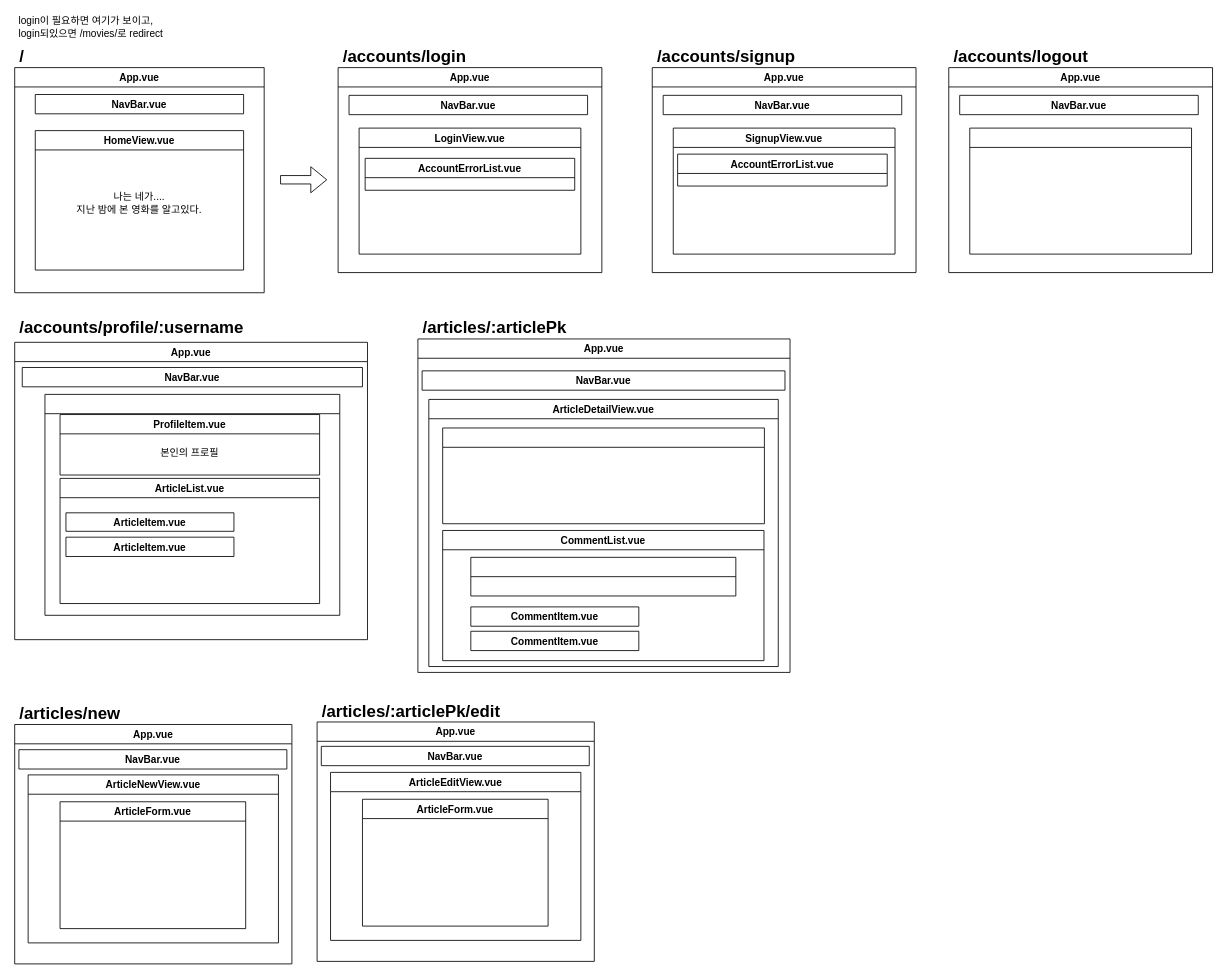
This 1227x979 diagram has some shape labels left out. The shapes that lost their labels are listed below. From the top down, each one's centre as x and y in pixels, then its label:
At (x=1080, y=190): "LogoutView.vue".
At (x=603, y=475): "ArticleDetailItem.vue".
At (x=192, y=504): "ProfileView.vue".
At (x=603, y=576): "CommentForm.vue".
